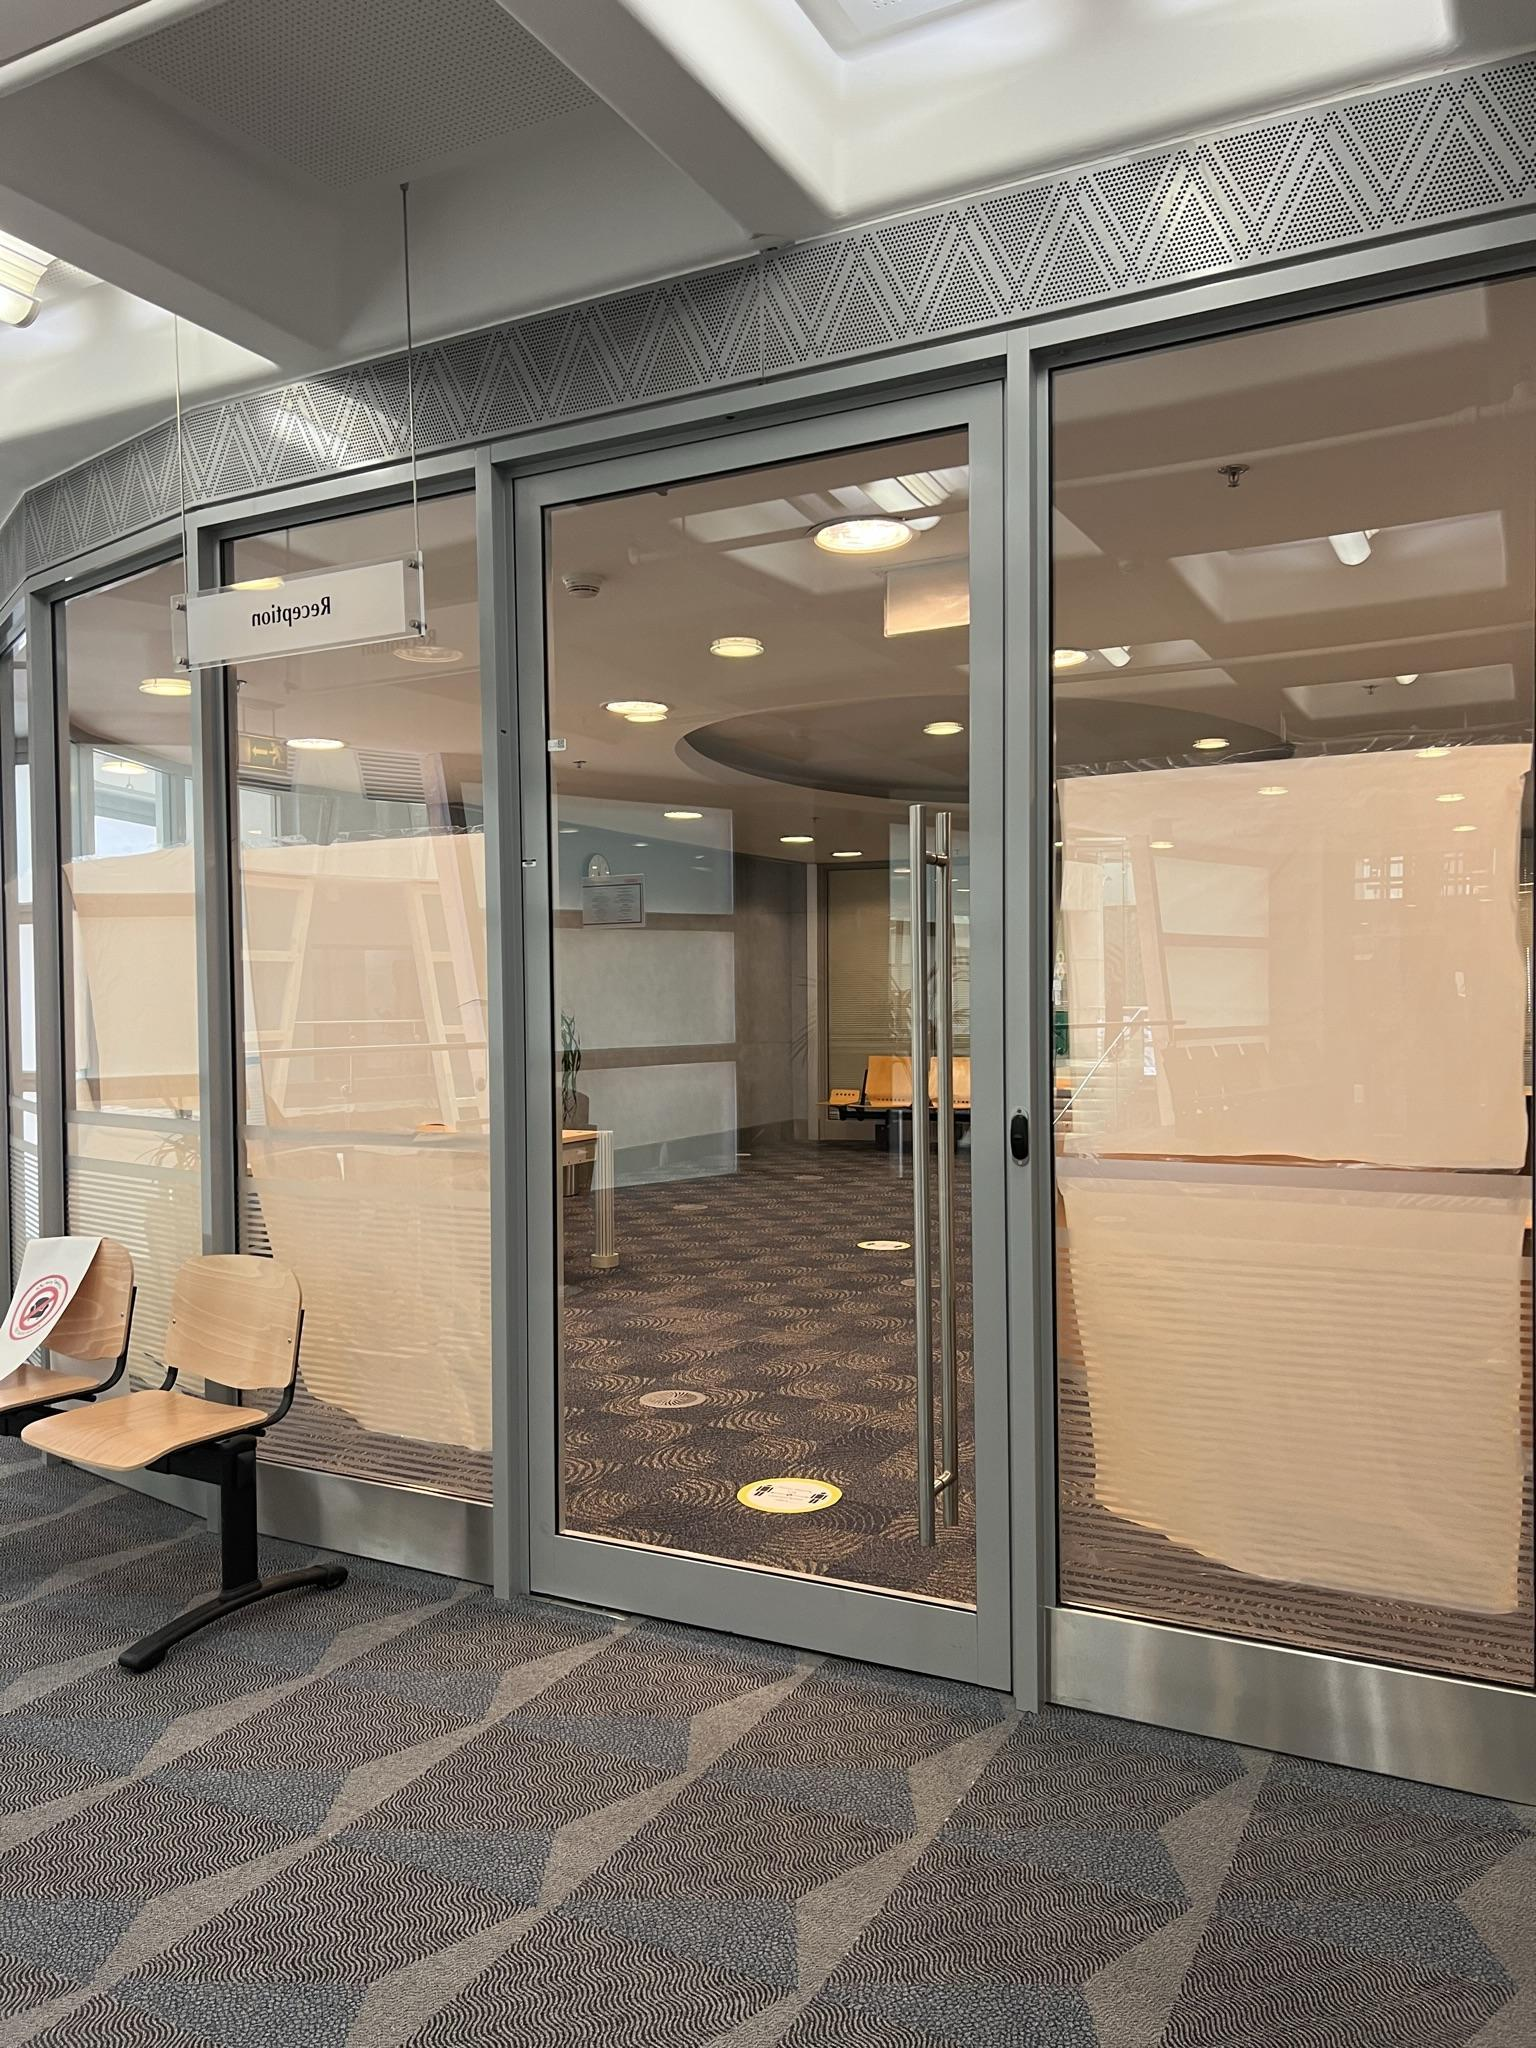door: (511, 361, 1004, 1666)
handle: (904, 801, 944, 1550)
